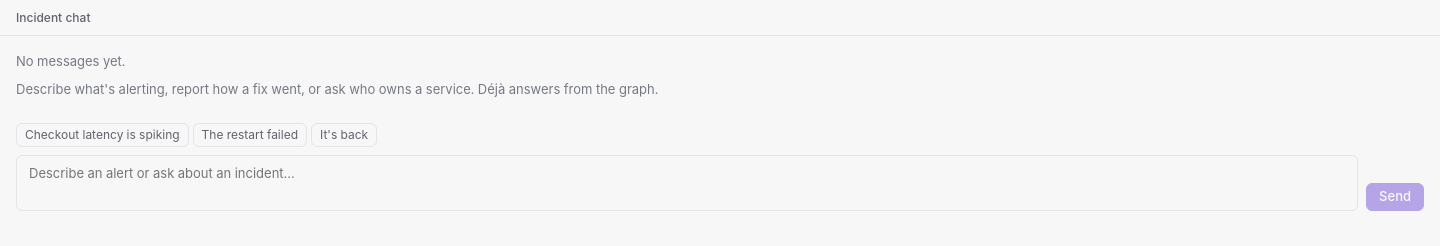
Test: Chat › explains an unreachable backend in plain language
Type "hello" into the text box named "Message Déjà" at [687, 183], box x1=16 y1=155 x2=1358 y2=211
Then press Enter
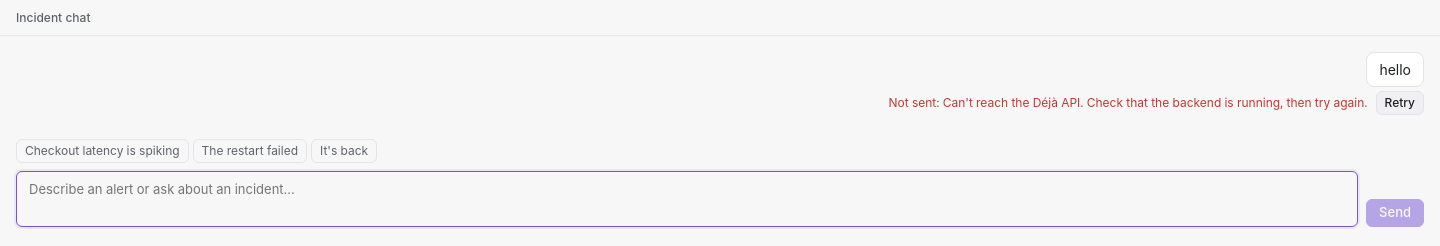
Check: the message shows "Can't reach the Déjà API. Check that the backend is running", box x1=943 y1=95 x2=1368 y2=110
